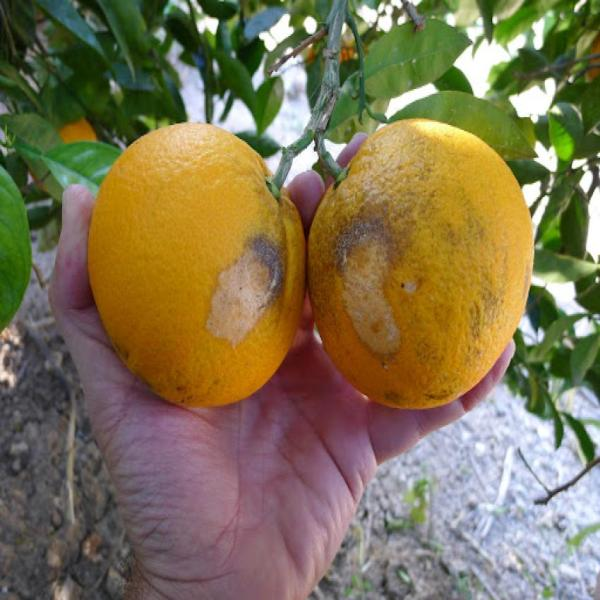Trips: (82, 103, 308, 436), (308, 113, 536, 432)
